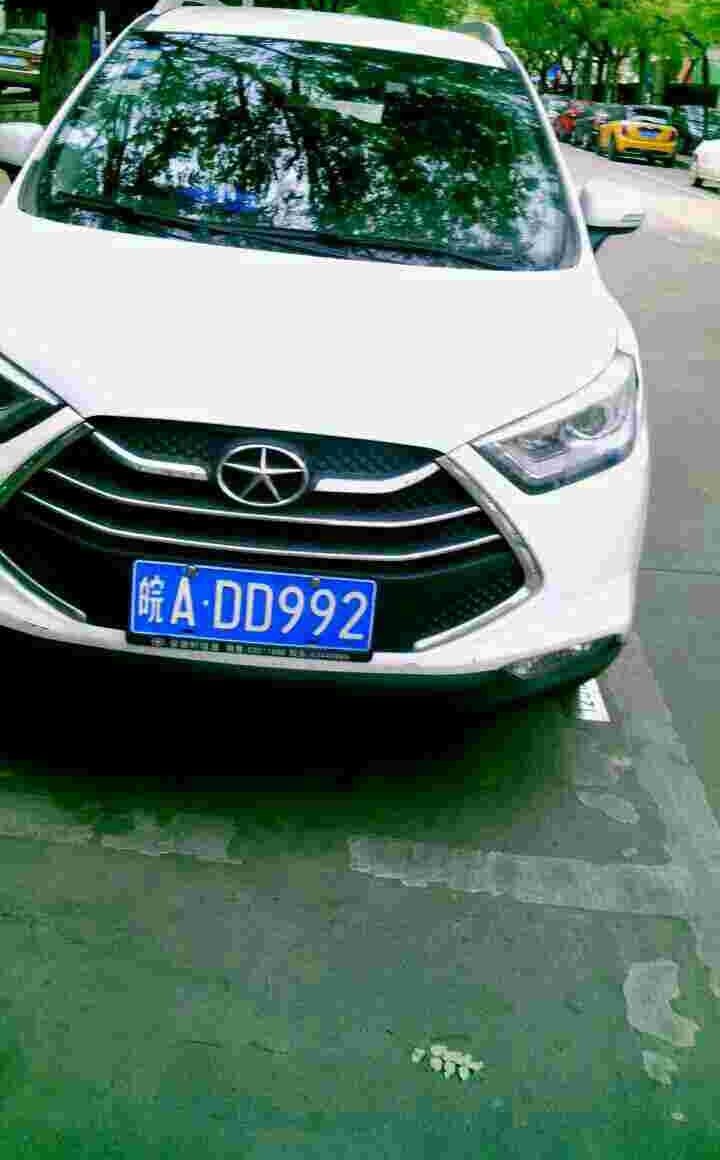license_plate: (115, 549, 377, 660)
